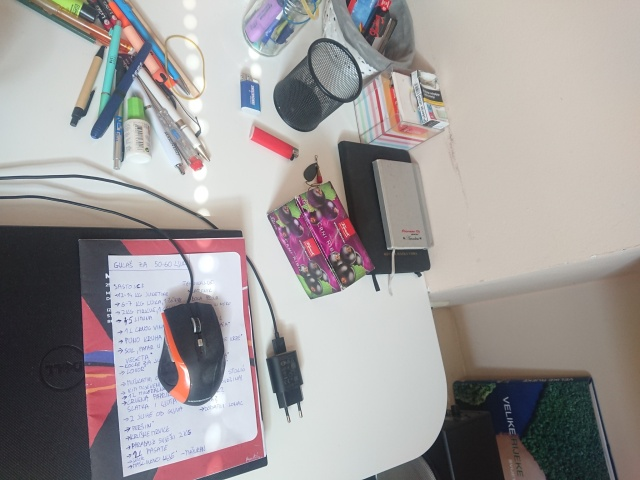Franck Black Currant Tea 60g: (265, 179, 377, 300)
